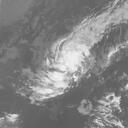cyclone: (36, 37, 90, 102)
